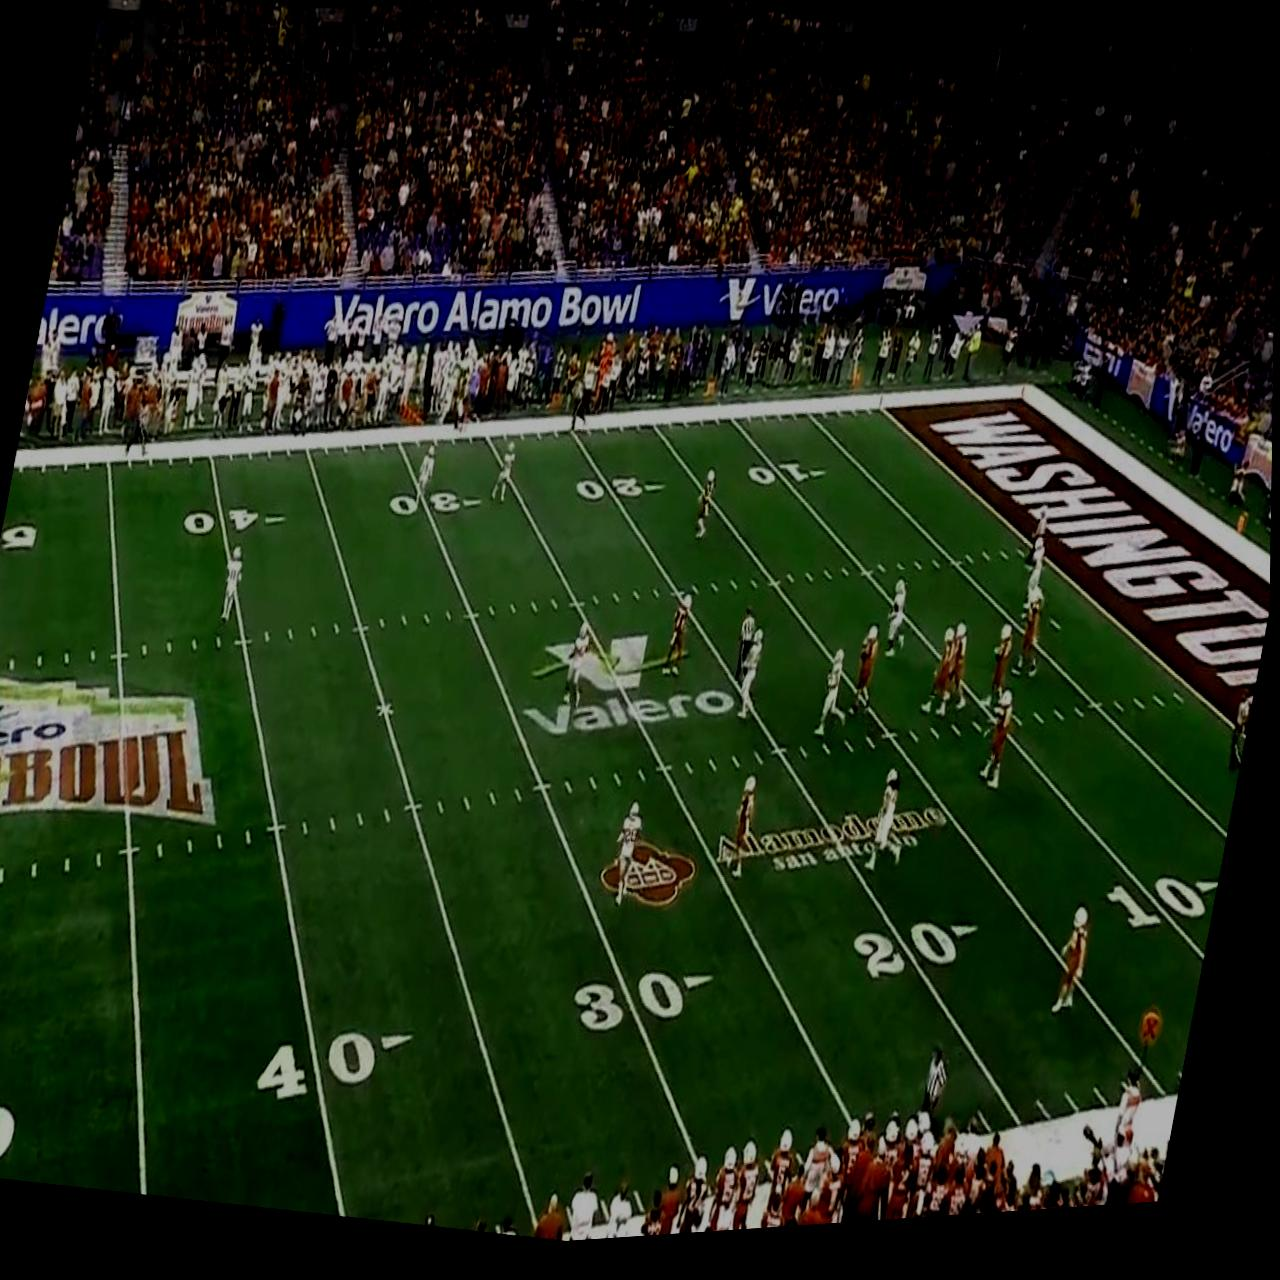10R: (1101, 878, 1223, 965), (744, 464, 831, 509)
20R: (847, 911, 983, 1010), (576, 471, 669, 526)
30R: (570, 958, 721, 1063), (389, 486, 486, 537)
40R: (256, 1012, 418, 1130), (182, 497, 287, 554)
50: (0, 1085, 25, 1182), (0, 518, 40, 557)
